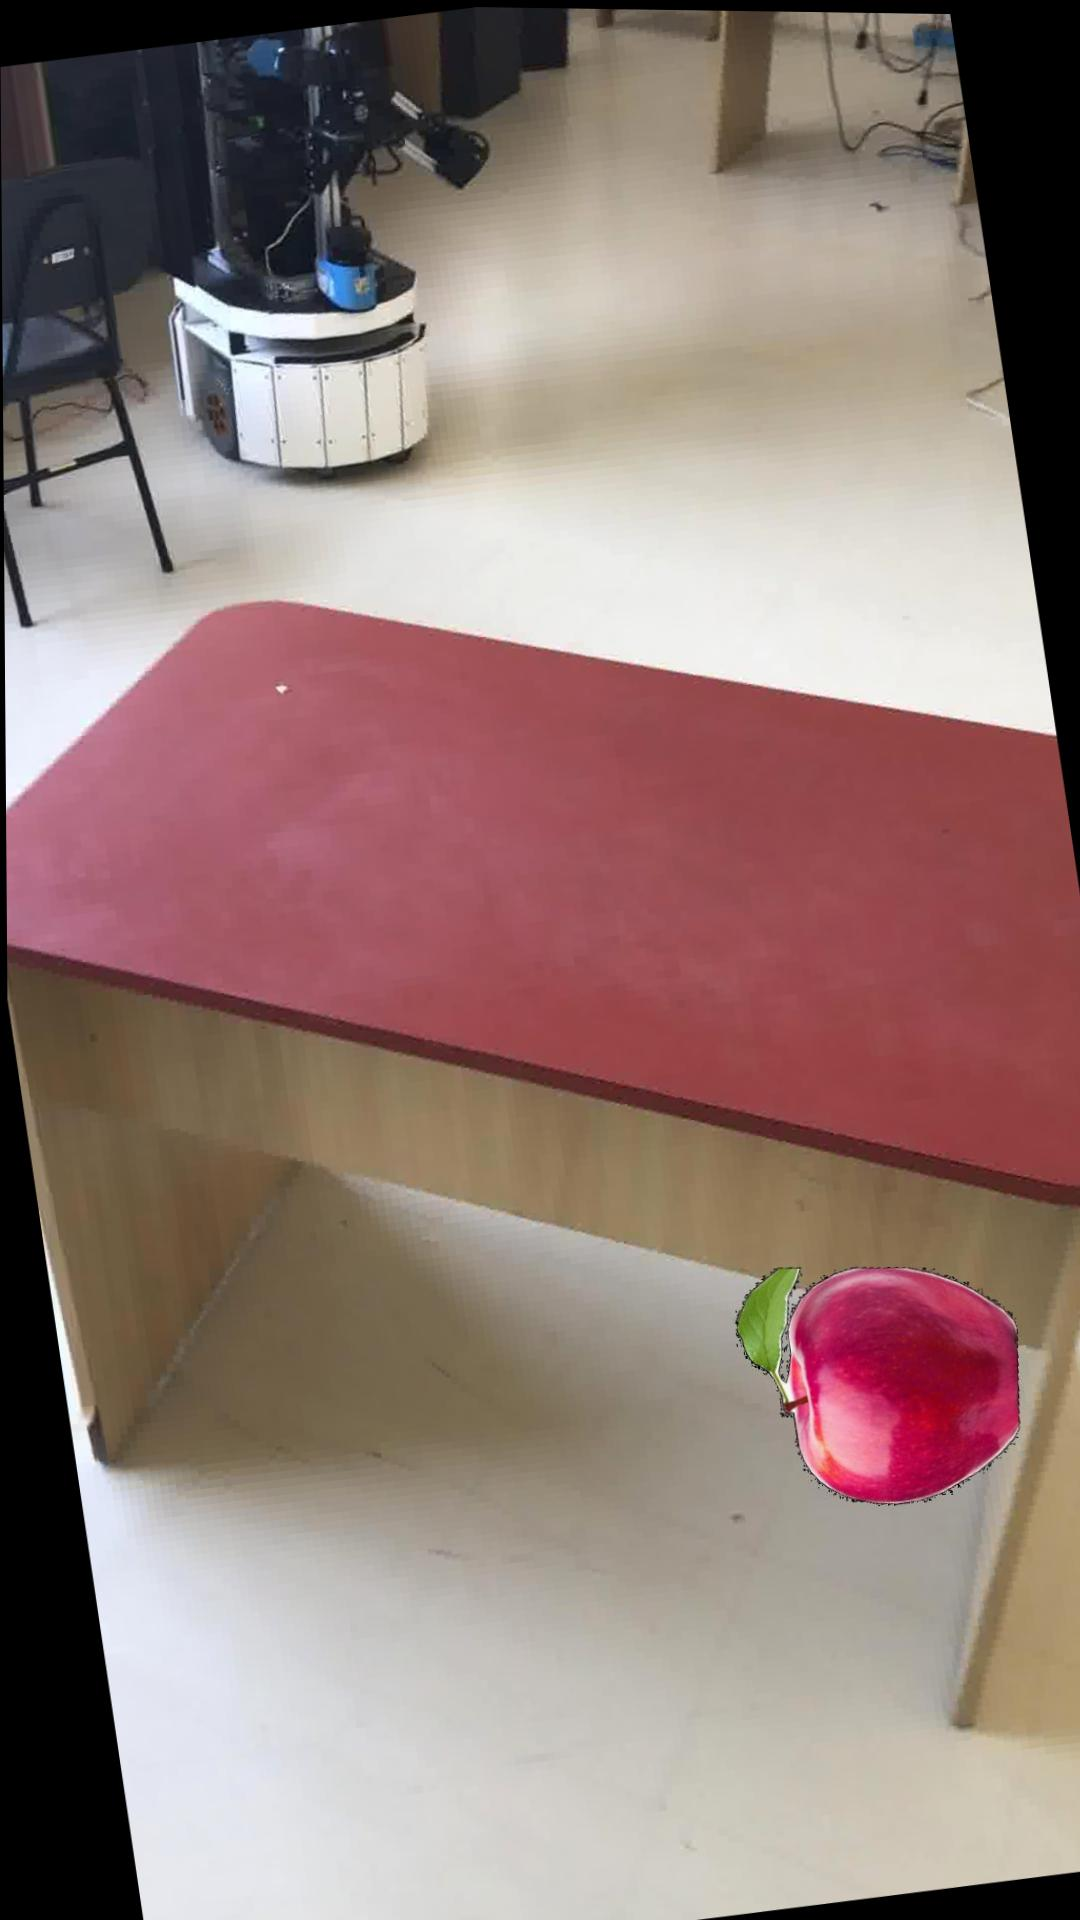apple: (732, 1262, 1017, 1501)
